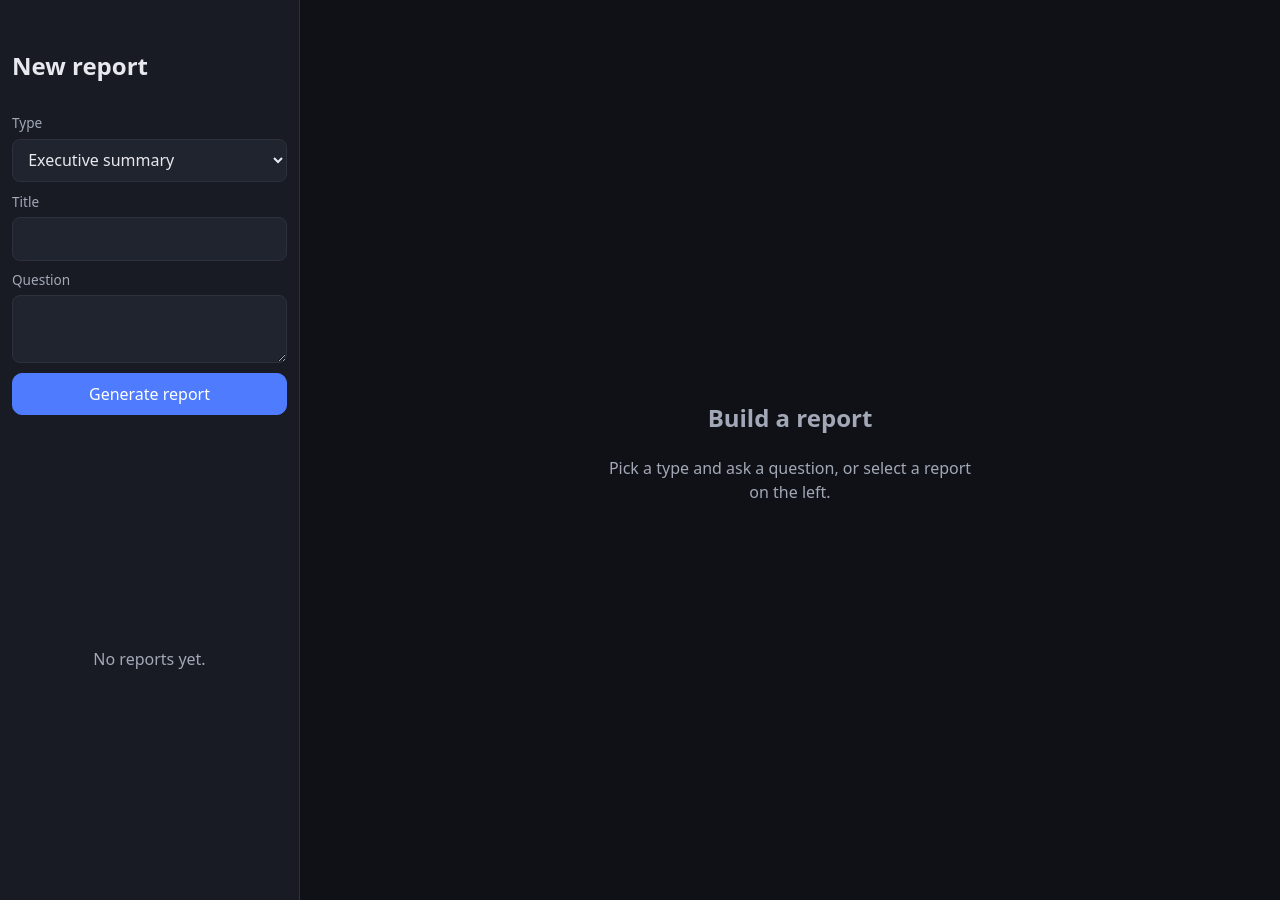
Test case: report builder › shows a failed report with its reason honestly
Step 1. Select "Executive summary" in the dropdown labelled "Type" → (150, 160), box [12,139,287,182]
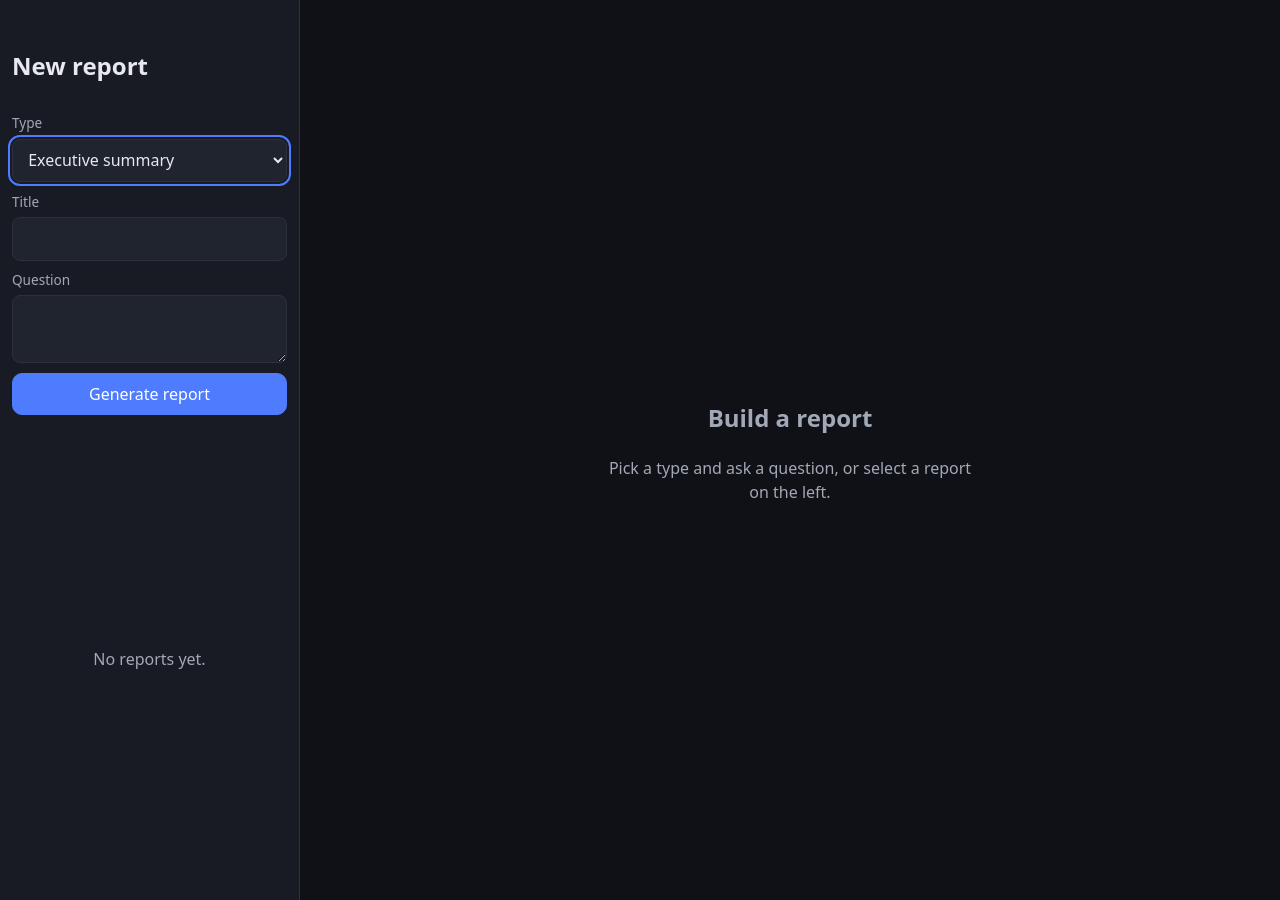
Step 2. Type "Q3 Review" into the field labelled "Title" → (150, 239), box [12,217,287,261]
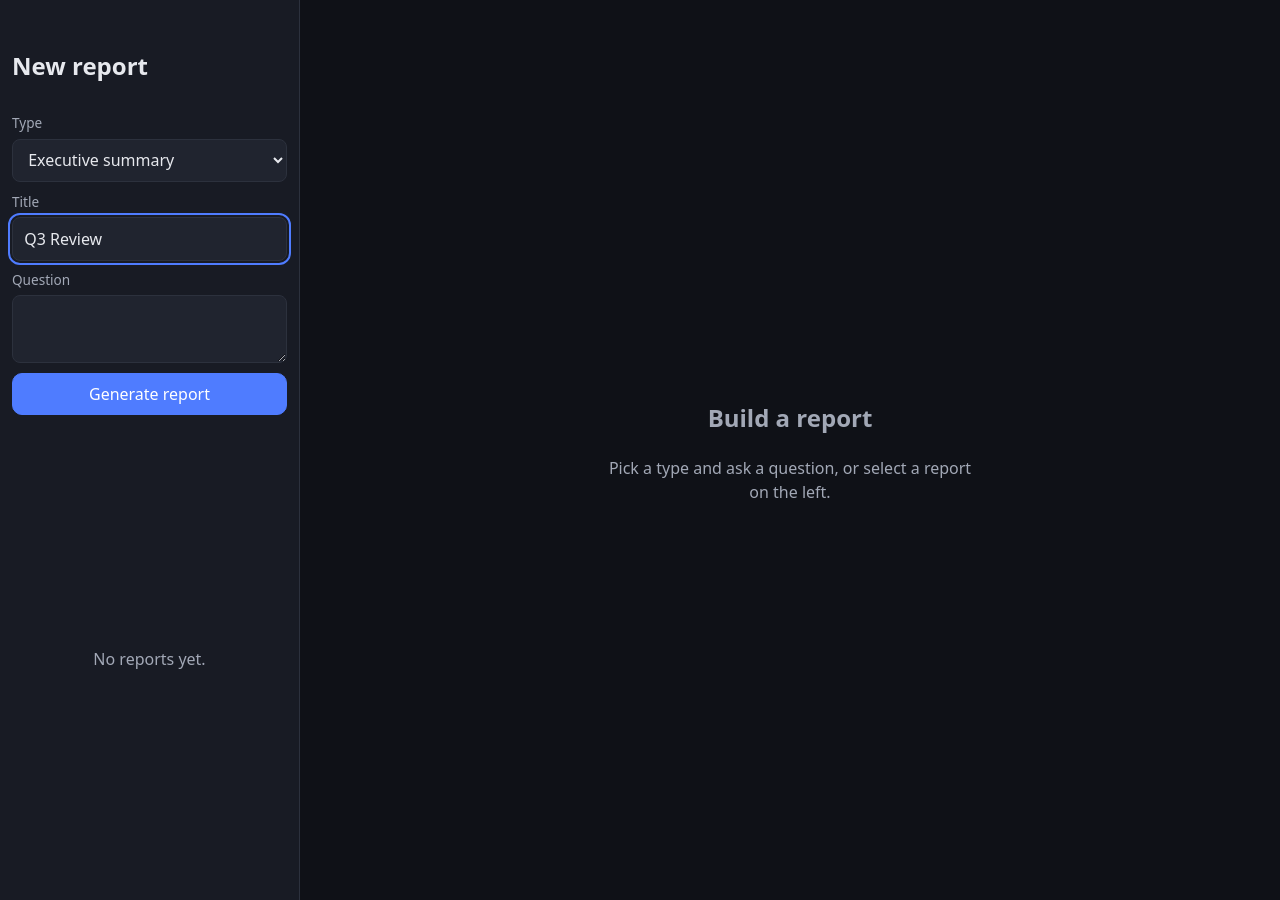
Step 3. Type "summarize Q3" into the text box labelled "Question" → (150, 329), box [12,295,287,363]
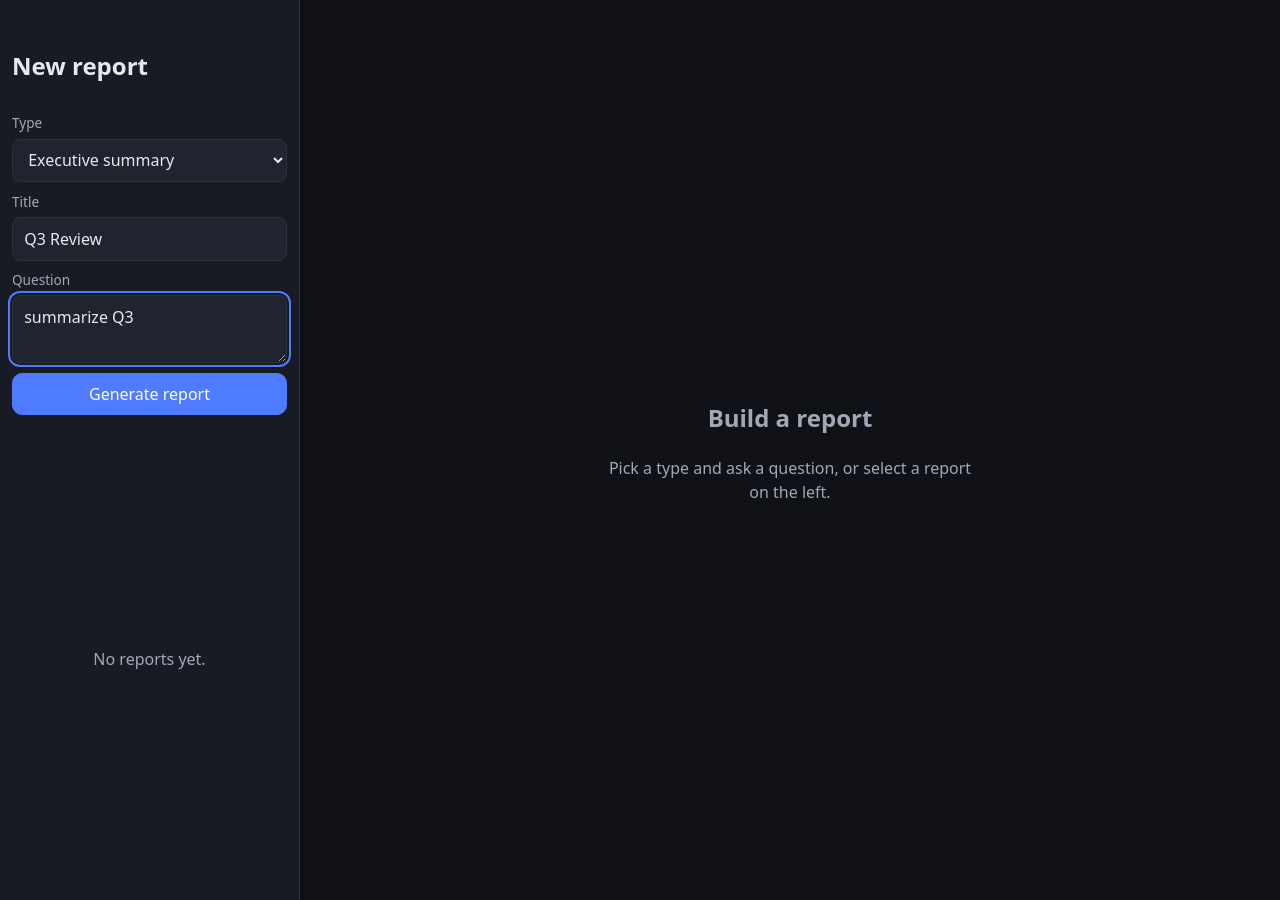
Step 4. Click the button "Generate report" → (150, 394), box [12,372,287,414]
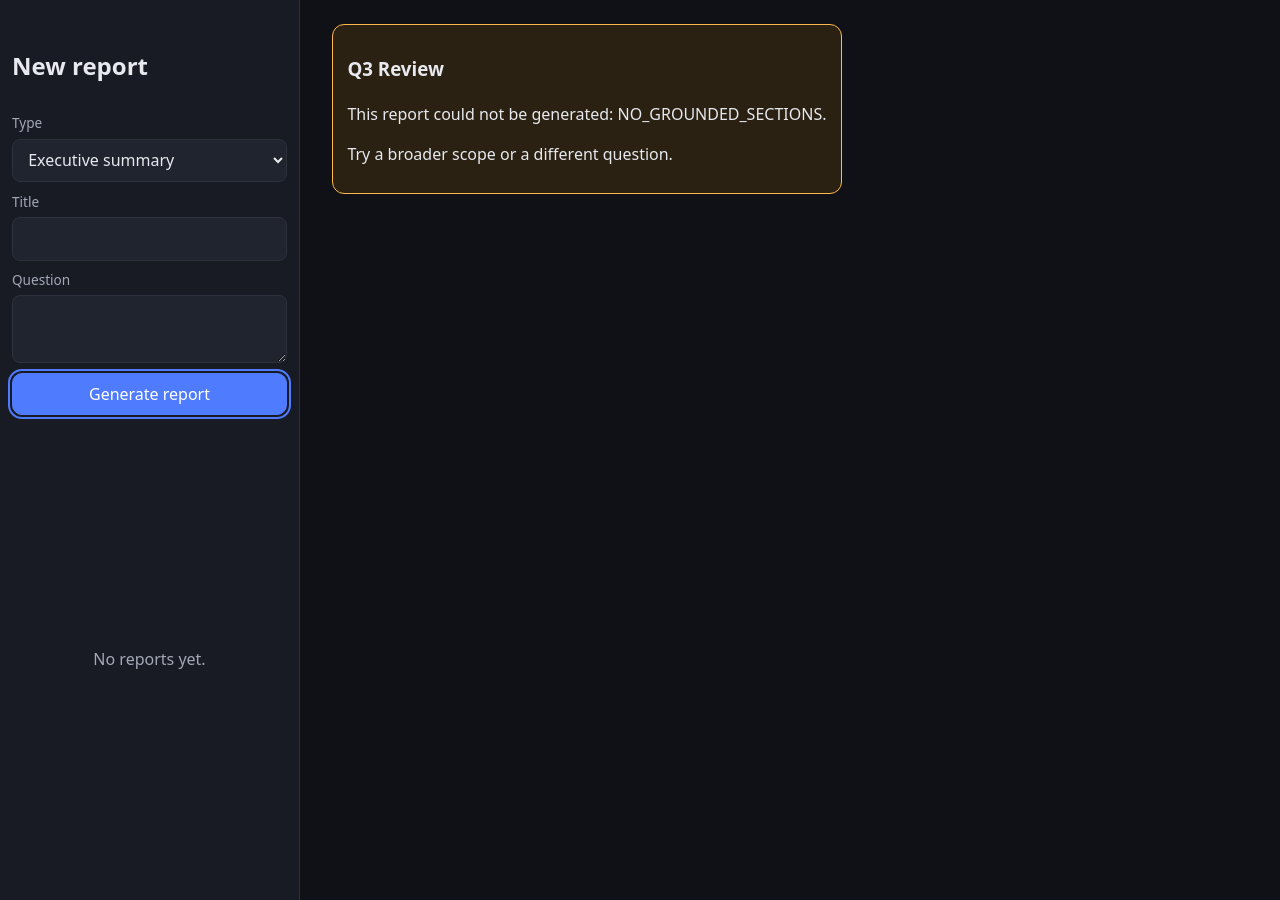
Now the element named "Report failed" shows "NO_GROUNDED_SECTIONS", box [618,103,822,125]
